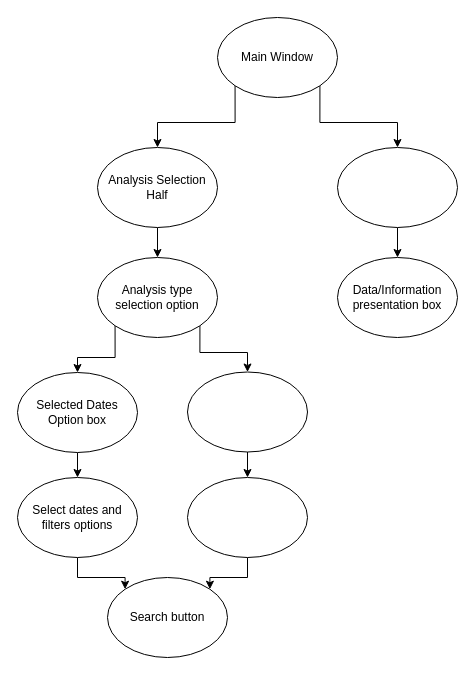
The diagram is 475 pixels wide and 675 high, and some of its shapes have lost their labels. Each missing label, with the box of its shape:
Alcohol Impacts Option box: (186, 371, 308, 452)
Data/Graph Half: (336, 146, 458, 228)
Select alcohol impacts options: (186, 476, 308, 558)
